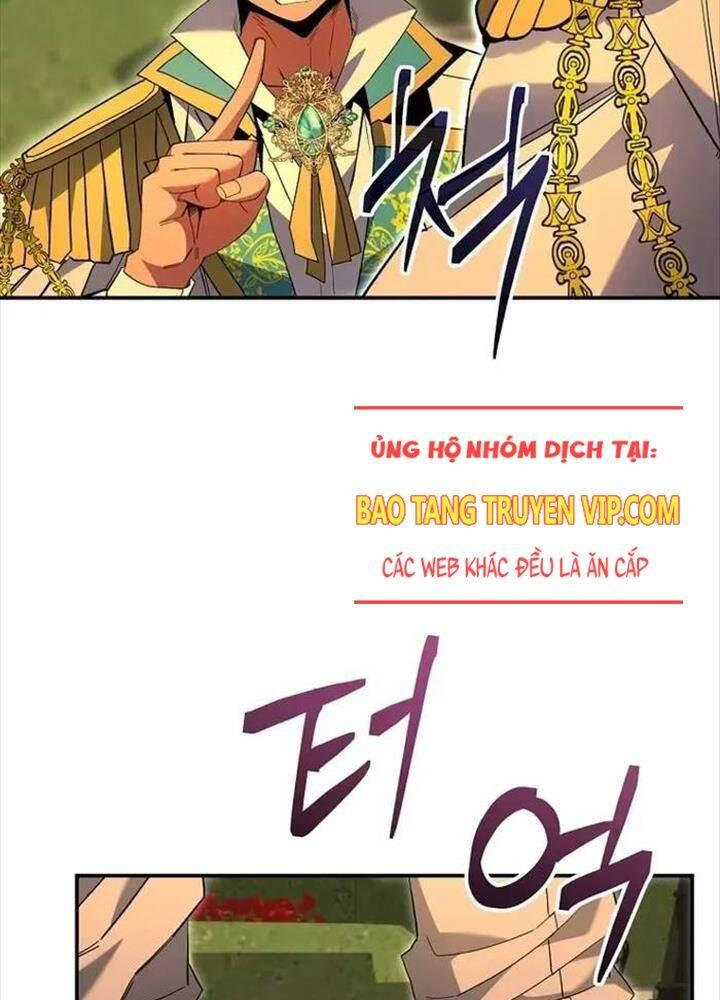quangcao: (353, 407, 696, 603)
